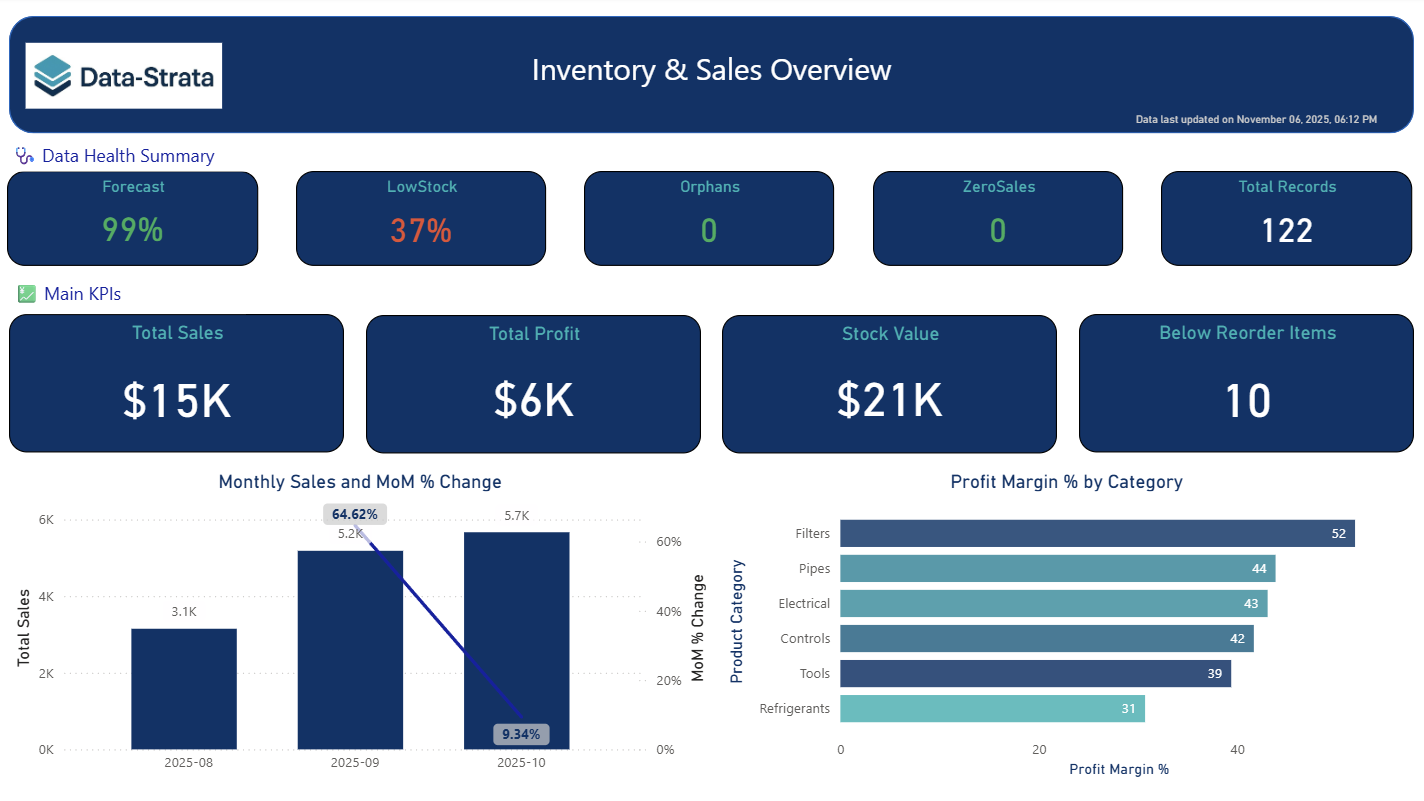

The page's visual inventory and layout, read from the dashboard file:
{"tool":"powerbi","page":{"name":"Overview","canvas":[1280,720],"ordinal":0},"visuals":[{"type":"shape","box":[11,17.1,1258.3,105.2],"z":0},{"type":"textbox","box":[413.8,40.4,452.4,57.5],"z":1000},{"type":"card","title":"Total Sales","fields":{"Values":["_Measures.Total Sales (DAX)"]},"box":[11.1,284.2,300.3,124],"z":2000},{"type":"card","title":"Total Profit","fields":{"Values":["vw_CategoryMargin.Total Profit (Formatted)"]},"box":[330.5,284.4,300,123.8],"z":3000},{"type":"card","title":"Stock Value","fields":{"Values":["vw_WarehouseHealth.Stock Value (Formatted)"]},"box":[649.5,284.4,300,123.8],"z":4000},{"type":"card","title":"Below Reorder Items","fields":{"Values":["vw_WarehouseHealth.BelowReorderCount_DAX"]},"box":[968.6,284.2,300.3,124],"z":5000},{"type":"lineClusteredColumnComboChart","title":"Monthly Sales and MoM % Change","fields":{"Y":["vw_MonthlySales.Total Sales"],"Y2":["vw_MonthlySales.MoM % Change"],"Category":["vw_MonthlySales.YearMonth"]},"box":[11.1,423.3,628.9,280.2],"z":6000},{"type":"image","box":[20.8,0,185.9,141.8],"z":7000},{"type":"card","title":"Forecast","fields":{"Values":["_Measures.Forecast Accuracy % CARD"]},"box":[9.1,156.2,224.8,84.7],"z":8000},{"type":"card","title":"LowStock","fields":{"Values":["_Measures.Low Stock %"]},"box":[267.9,156.1,224,85.1],"z":9000},{"type":"card","title":"Total Records","fields":{"Values":["_Measures.Total Records"]},"box":[1042.1,156.2,224.8,84.7],"z":10000},{"type":"textbox","box":[9.1,125,213.7,31.2],"z":11000},{"type":"card","title":"ZeroSales","fields":{"Values":["_Measures.Zero-Sales Products"]},"box":[784.1,156.1,224,85.1],"z":12000},{"type":"textbox","box":[11.1,248.9,211.7,35.3],"z":13000},{"type":"card","title":"Orphans","fields":{"Values":["_Measures.Orphan Sales"]},"box":[526,156.1,224,85.1],"z":14000},{"type":"barChart","title":"Profit Margin % by Category","fields":{"Category":["vw_CategoryMargin.Category"],"Y":["Sum(vw_CategoryMargin.MarginPct)"]},"box":[649.1,423.3,617.8,280.2],"z":15000},{"type":"card","fields":{"Values":["_Measures.Last Refresh"]},"box":[996.7,99.4,262.4,22.4],"z":16000}]}

Visuals, with their boxes in screenshot pixels (x1, y1, x2, y2), scaled from the page's 1280x720 canvas onto the 1424x801 screenshot:
shape: x1=12, y1=19, x2=1412, y2=136
textbox: x1=460, y1=45, x2=964, y2=109
"Total Sales" card: x1=12, y1=316, x2=346, y2=454
"Total Profit" card: x1=368, y1=316, x2=701, y2=454
"Stock Value" card: x1=723, y1=316, x2=1056, y2=454
"Below Reorder Items" card: x1=1078, y1=316, x2=1412, y2=454
"Monthly Sales and MoM % Change" lineClusteredColumnComboChart: x1=12, y1=471, x2=712, y2=783
image: x1=23, y1=0, x2=230, y2=158
"Forecast" card: x1=10, y1=174, x2=260, y2=268
"LowStock" card: x1=298, y1=174, x2=547, y2=268
"Total Records" card: x1=1159, y1=174, x2=1409, y2=268
textbox: x1=10, y1=139, x2=248, y2=174
"ZeroSales" card: x1=872, y1=174, x2=1122, y2=268
textbox: x1=12, y1=277, x2=248, y2=316
"Orphans" card: x1=585, y1=174, x2=834, y2=268
"Profit Margin % by Category" barChart: x1=722, y1=471, x2=1409, y2=783
card - _Measures.Last Refresh: x1=1109, y1=111, x2=1401, y2=136
